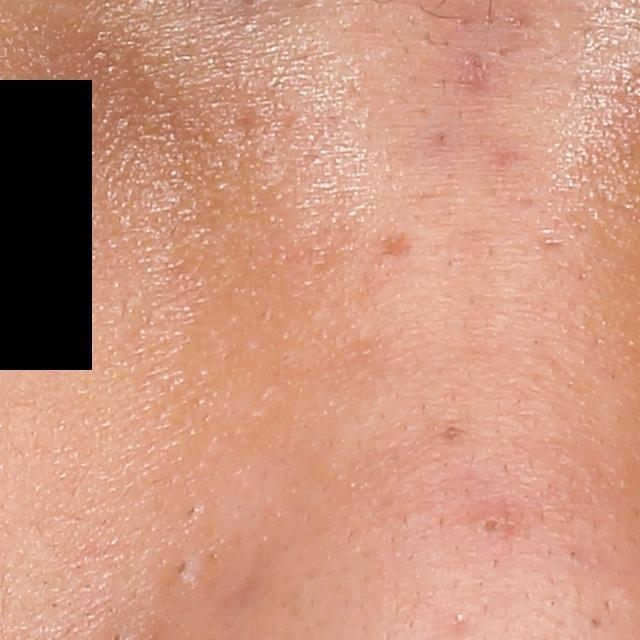comedo: (477, 510, 502, 535), (170, 554, 192, 580), (449, 607, 466, 624)
